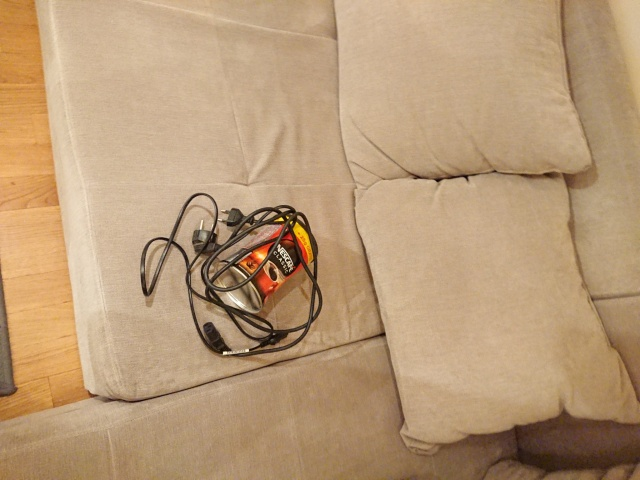Nescafe Classic 225g: (213, 209, 321, 316)
